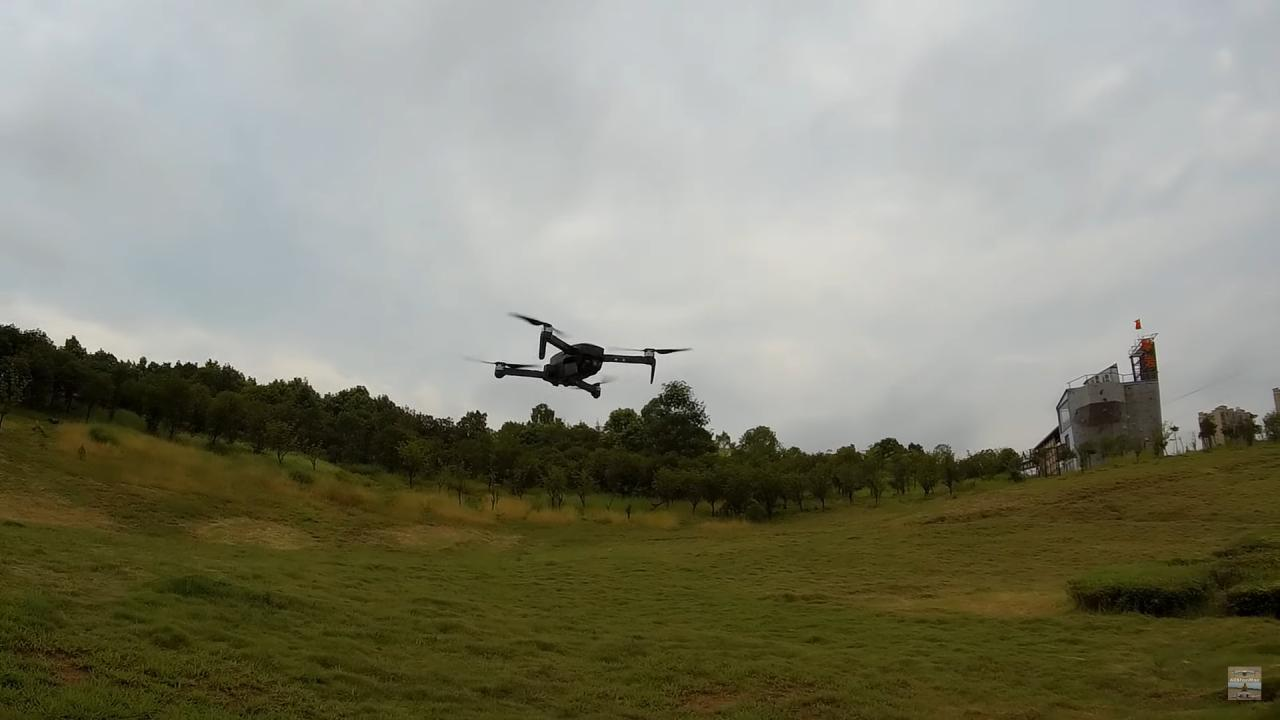Drone: (454, 300, 703, 408)
